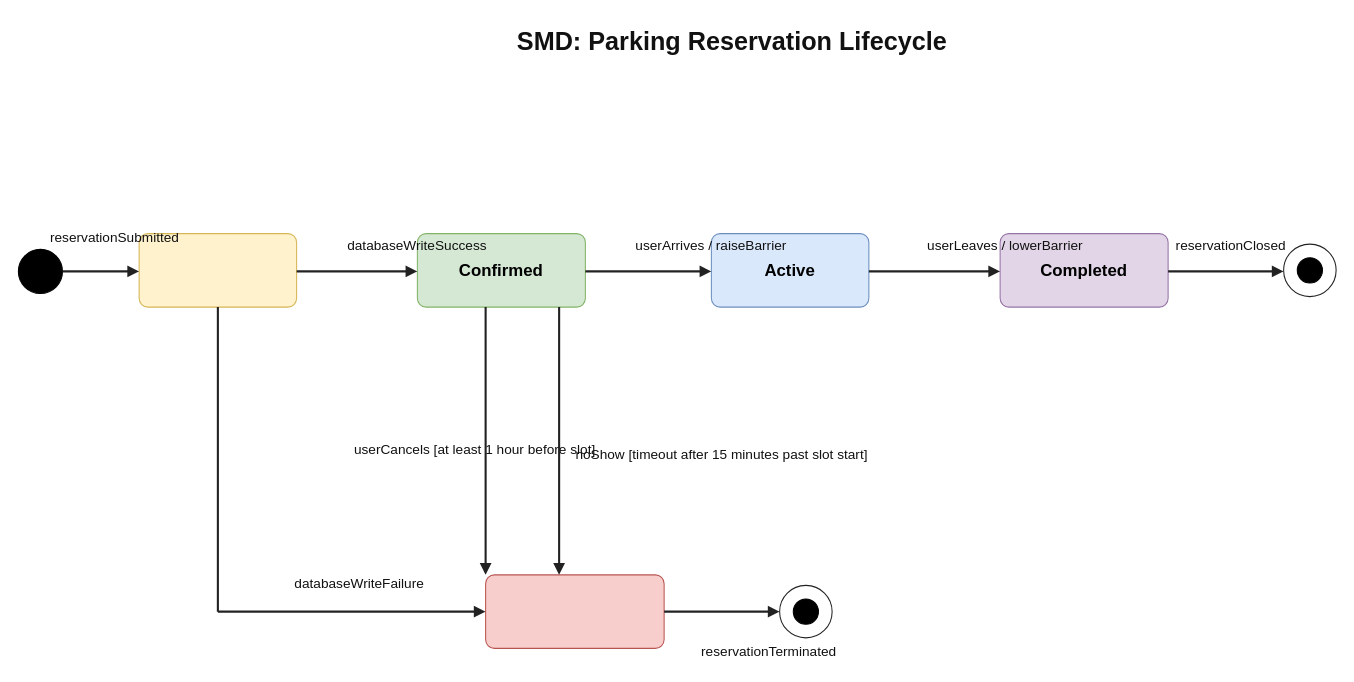
This 1354x682 diagram has some shape labels left out. Here are the shapes that lost their labels. From the top down, the box of each, then its label:
(138, 233, 297, 307): Pending
(485, 574, 664, 648): Cancelled
